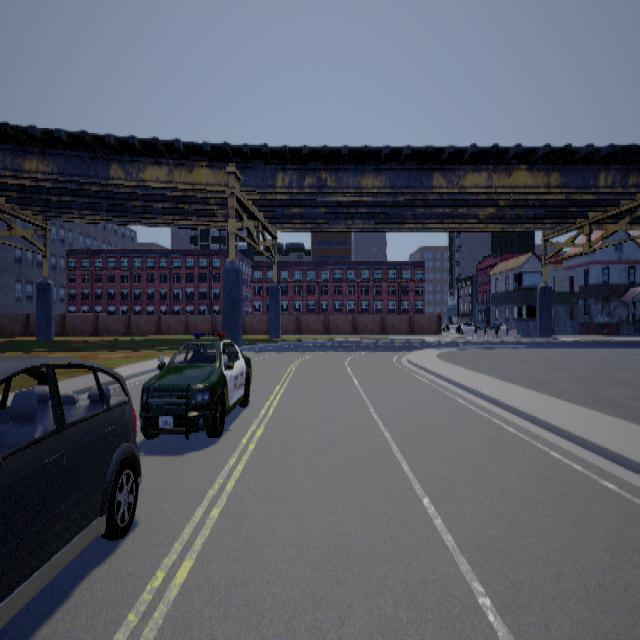vehicle: (0, 354, 141, 626), (138, 332, 251, 438)
